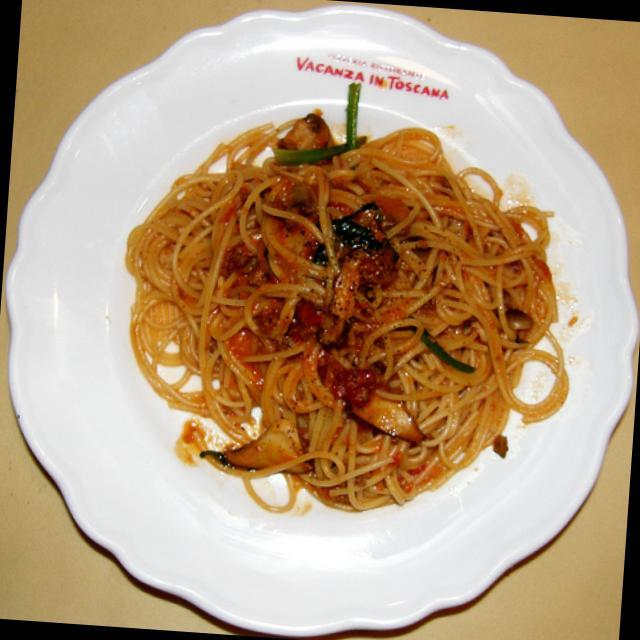Pasta: (114, 100, 586, 528)
